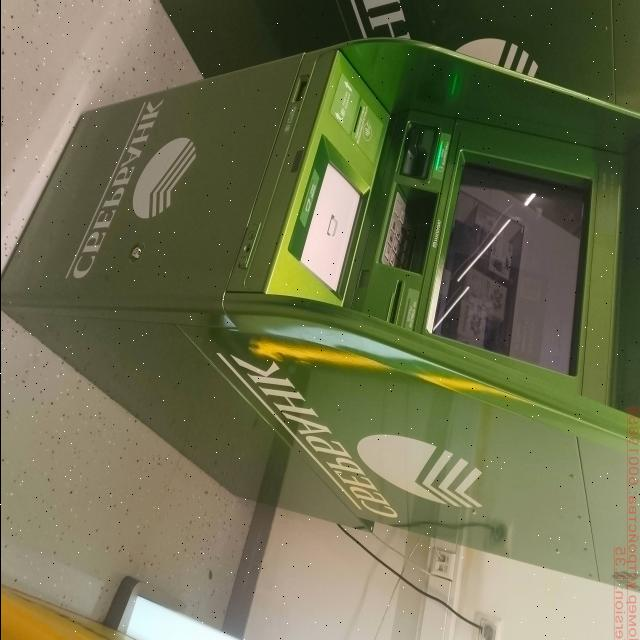bank: (0, 41, 640, 596), (153, 0, 640, 130)
